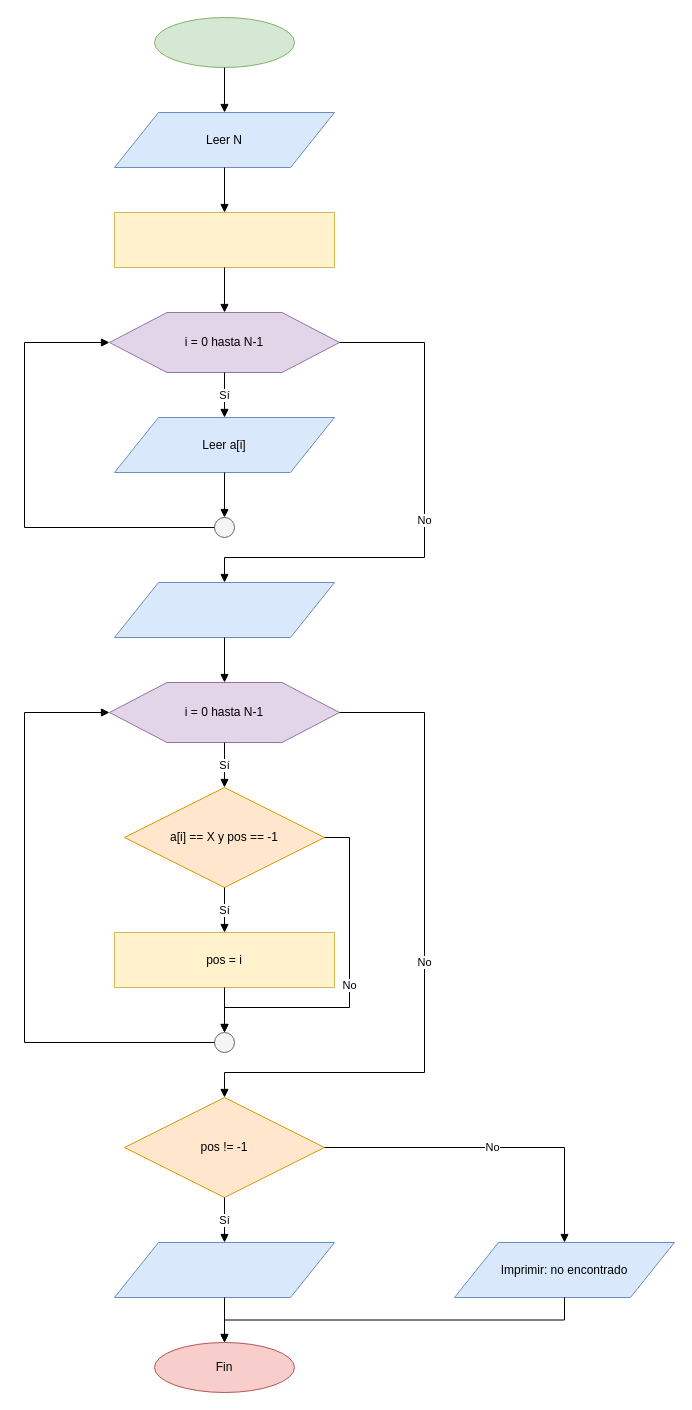
Image size: 692x1410. Some labels were removed from this diagram. Each missing label, with the centre of its shape:
"Declarar a[N]; pos = -1" goes at point (224, 240).
"Imprimir pos" goes at point (224, 1270).
"Inicio" goes at point (224, 42).
"Leer X" goes at point (224, 610).
